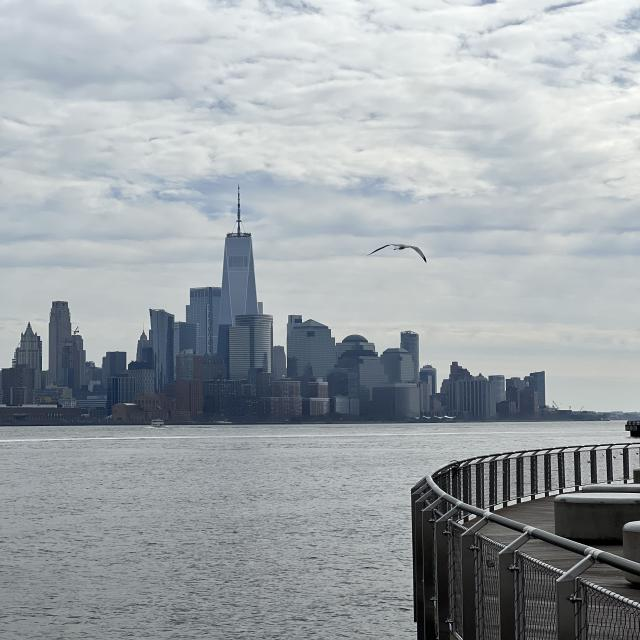WTC: (219, 182, 259, 313)
